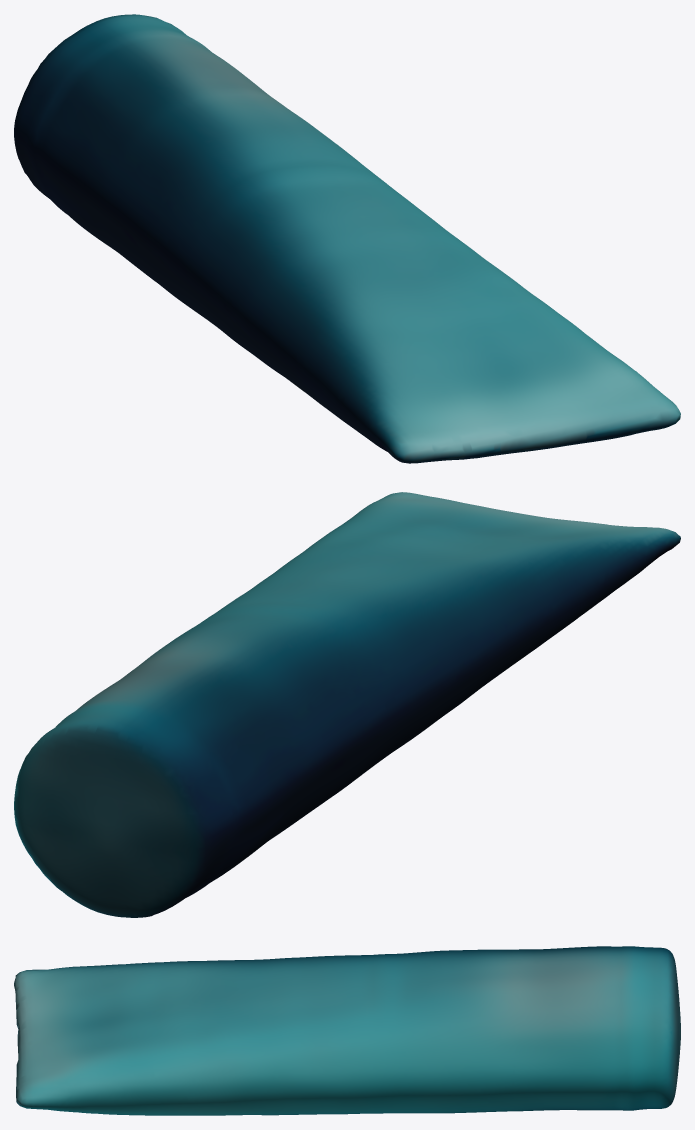
File: oil.glb
3 views of the same model, one above another, from view 1: azimuth 30°, elevation 25°; view 2: azimuth 150°, elevation 25°; view 3: azimuth 270°, elevation 25° (orthographic). The views are drawn at different scales.
Size of the model in its own units: 0.3786 by 0.2435 by 0.9991.
